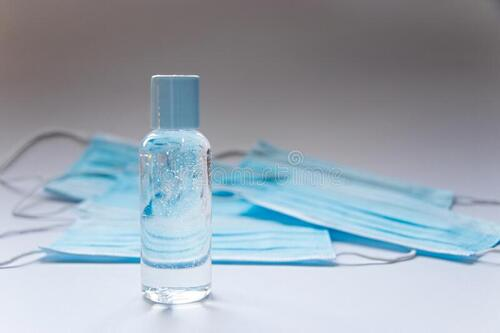sanitizer: (142, 72, 216, 307)
